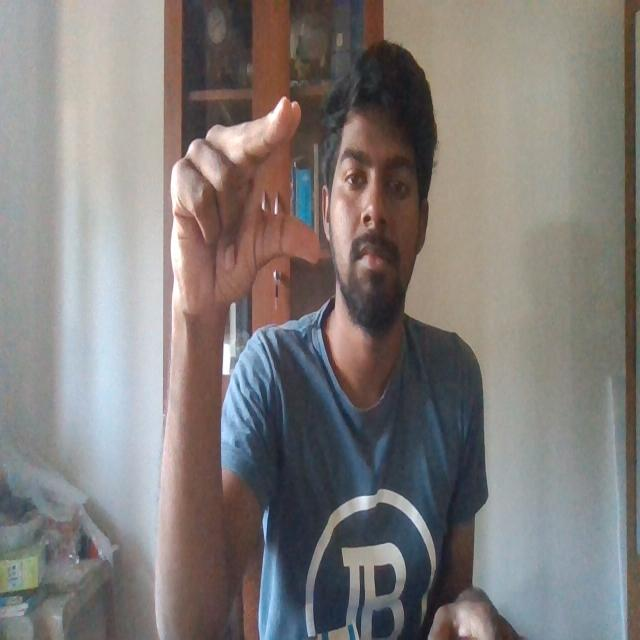No: (158, 82, 328, 328)
